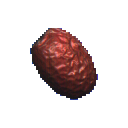gd: (10, 19, 110, 110)
